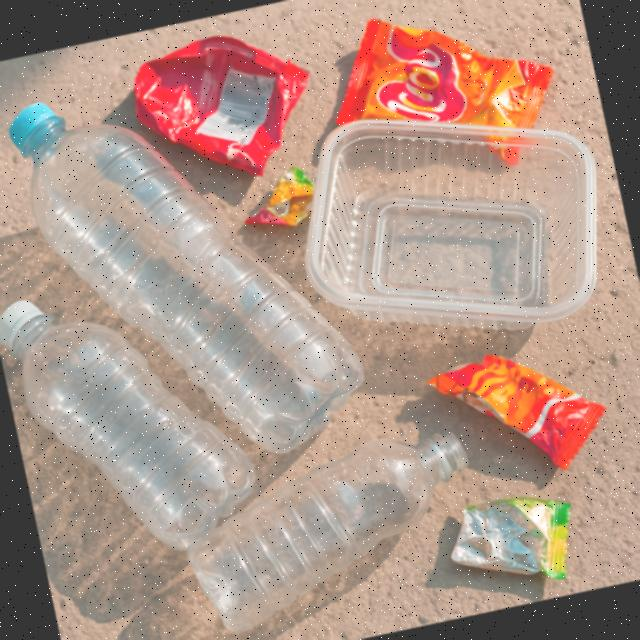plastic: (15, 43, 379, 490), (278, 81, 618, 367), (158, 424, 494, 640)
